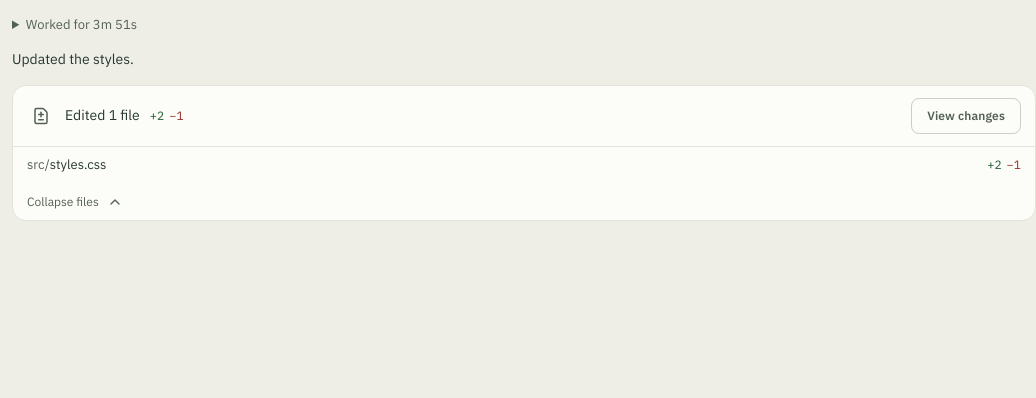
Test: shows recorded duration and an expandable edit card with actual diff counts
Expected: the heading "Worked for 3m 51s" is shown, left=26, top=16, right=137, bottom=33
Expected: the text "Edited 1 file" is shown, left=65, top=105, right=140, bottom=127
Click the button "View changes" at (966, 116), box left=911, top=98, right=1021, bottom=134
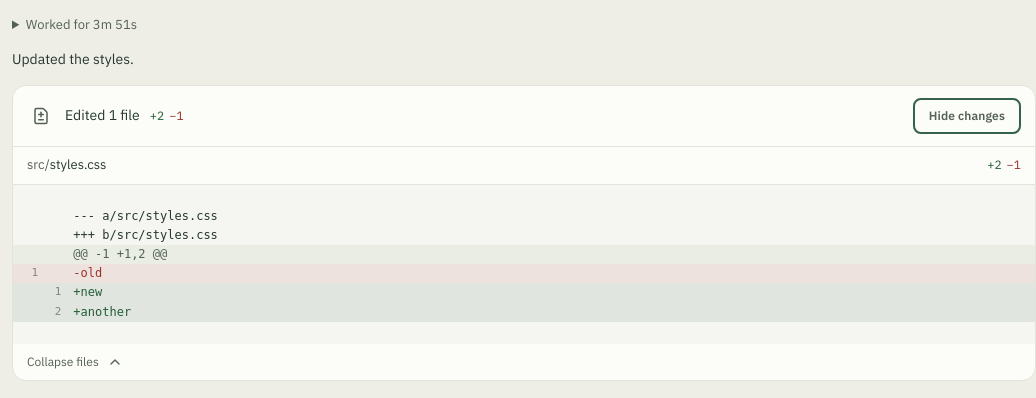
Expected: the text "--- a/src/styles.css" is shown, left=73, top=209, right=218, bottom=223
